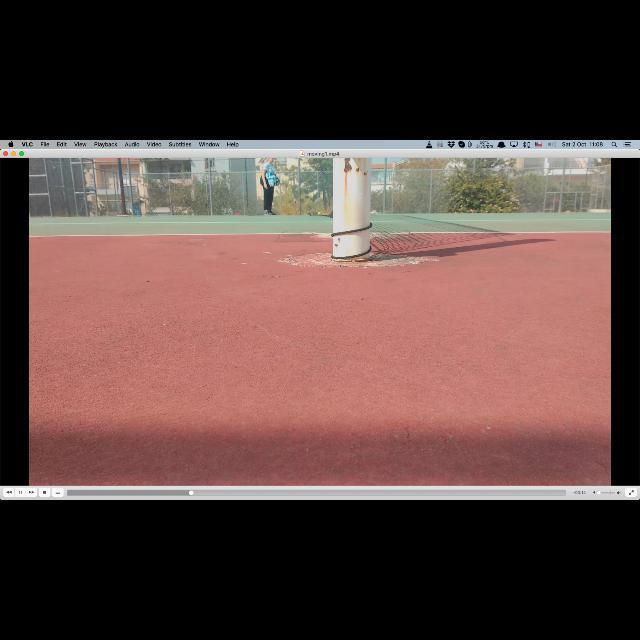tennis-ball: (318, 211, 321, 215)
